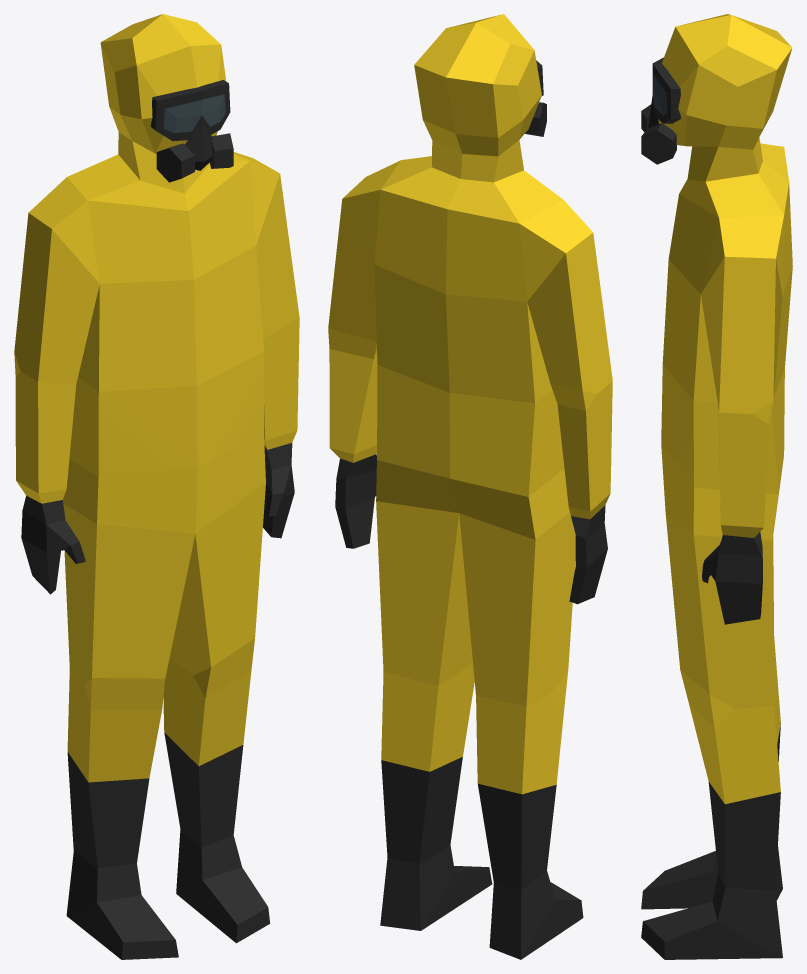
File: people_man-hazard.fbx
3 views of the same model, side by side, from view 1: azimuth 30°, elevation 25°; view 2: azimuth 150°, elevation 25°; view 3: azimuth 270°, elevation 25° (orthographic).
Parts seen in each view (by area): view 1: people_man_hazard; view 2: people_man_hazard; view 3: people_man_hazard.
Part boxes in pixels (x1,y1,x2,y2): people_man_hazard: (14,14,299,959); people_man_hazard: (328,14,612,959); people_man_hazard: (641,14,792,959).
Bounding box in the file's own units: 60.9 × 200 × 30.26.
